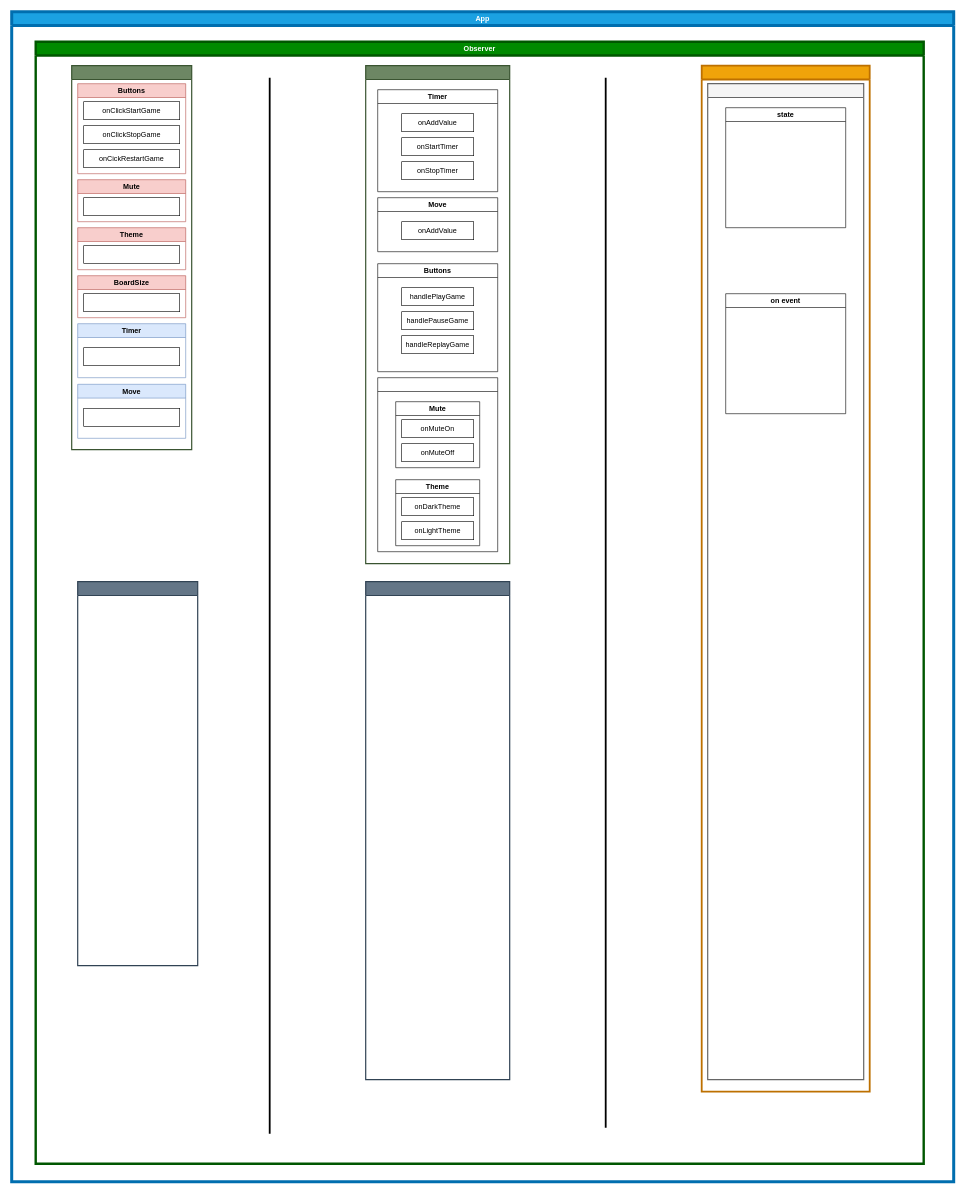
Image size: 965x1193. Some labels were removed from this diagram. The shapes that lost their labels are listed below. From the top down, each one's box as (x1, y1, x2, y2) in pixels, then its label:
(83, 197, 180, 216): onChangeMute
(83, 245, 180, 264): onChangeTheme
(71, 65, 192, 450): ViewApp
(83, 293, 180, 312): onSelectBoardSize
(365, 65, 510, 564): ControllerApp
(83, 347, 180, 366): viewTimerValue
(83, 408, 180, 426): viewMoveValue
(377, 377, 498, 552): Settings
(700, 64, 870, 1092): LocalStorage
(707, 83, 864, 1080): ModelApp
(77, 581, 198, 966): ViewBoard
(365, 581, 510, 1080): ControllerBoard
